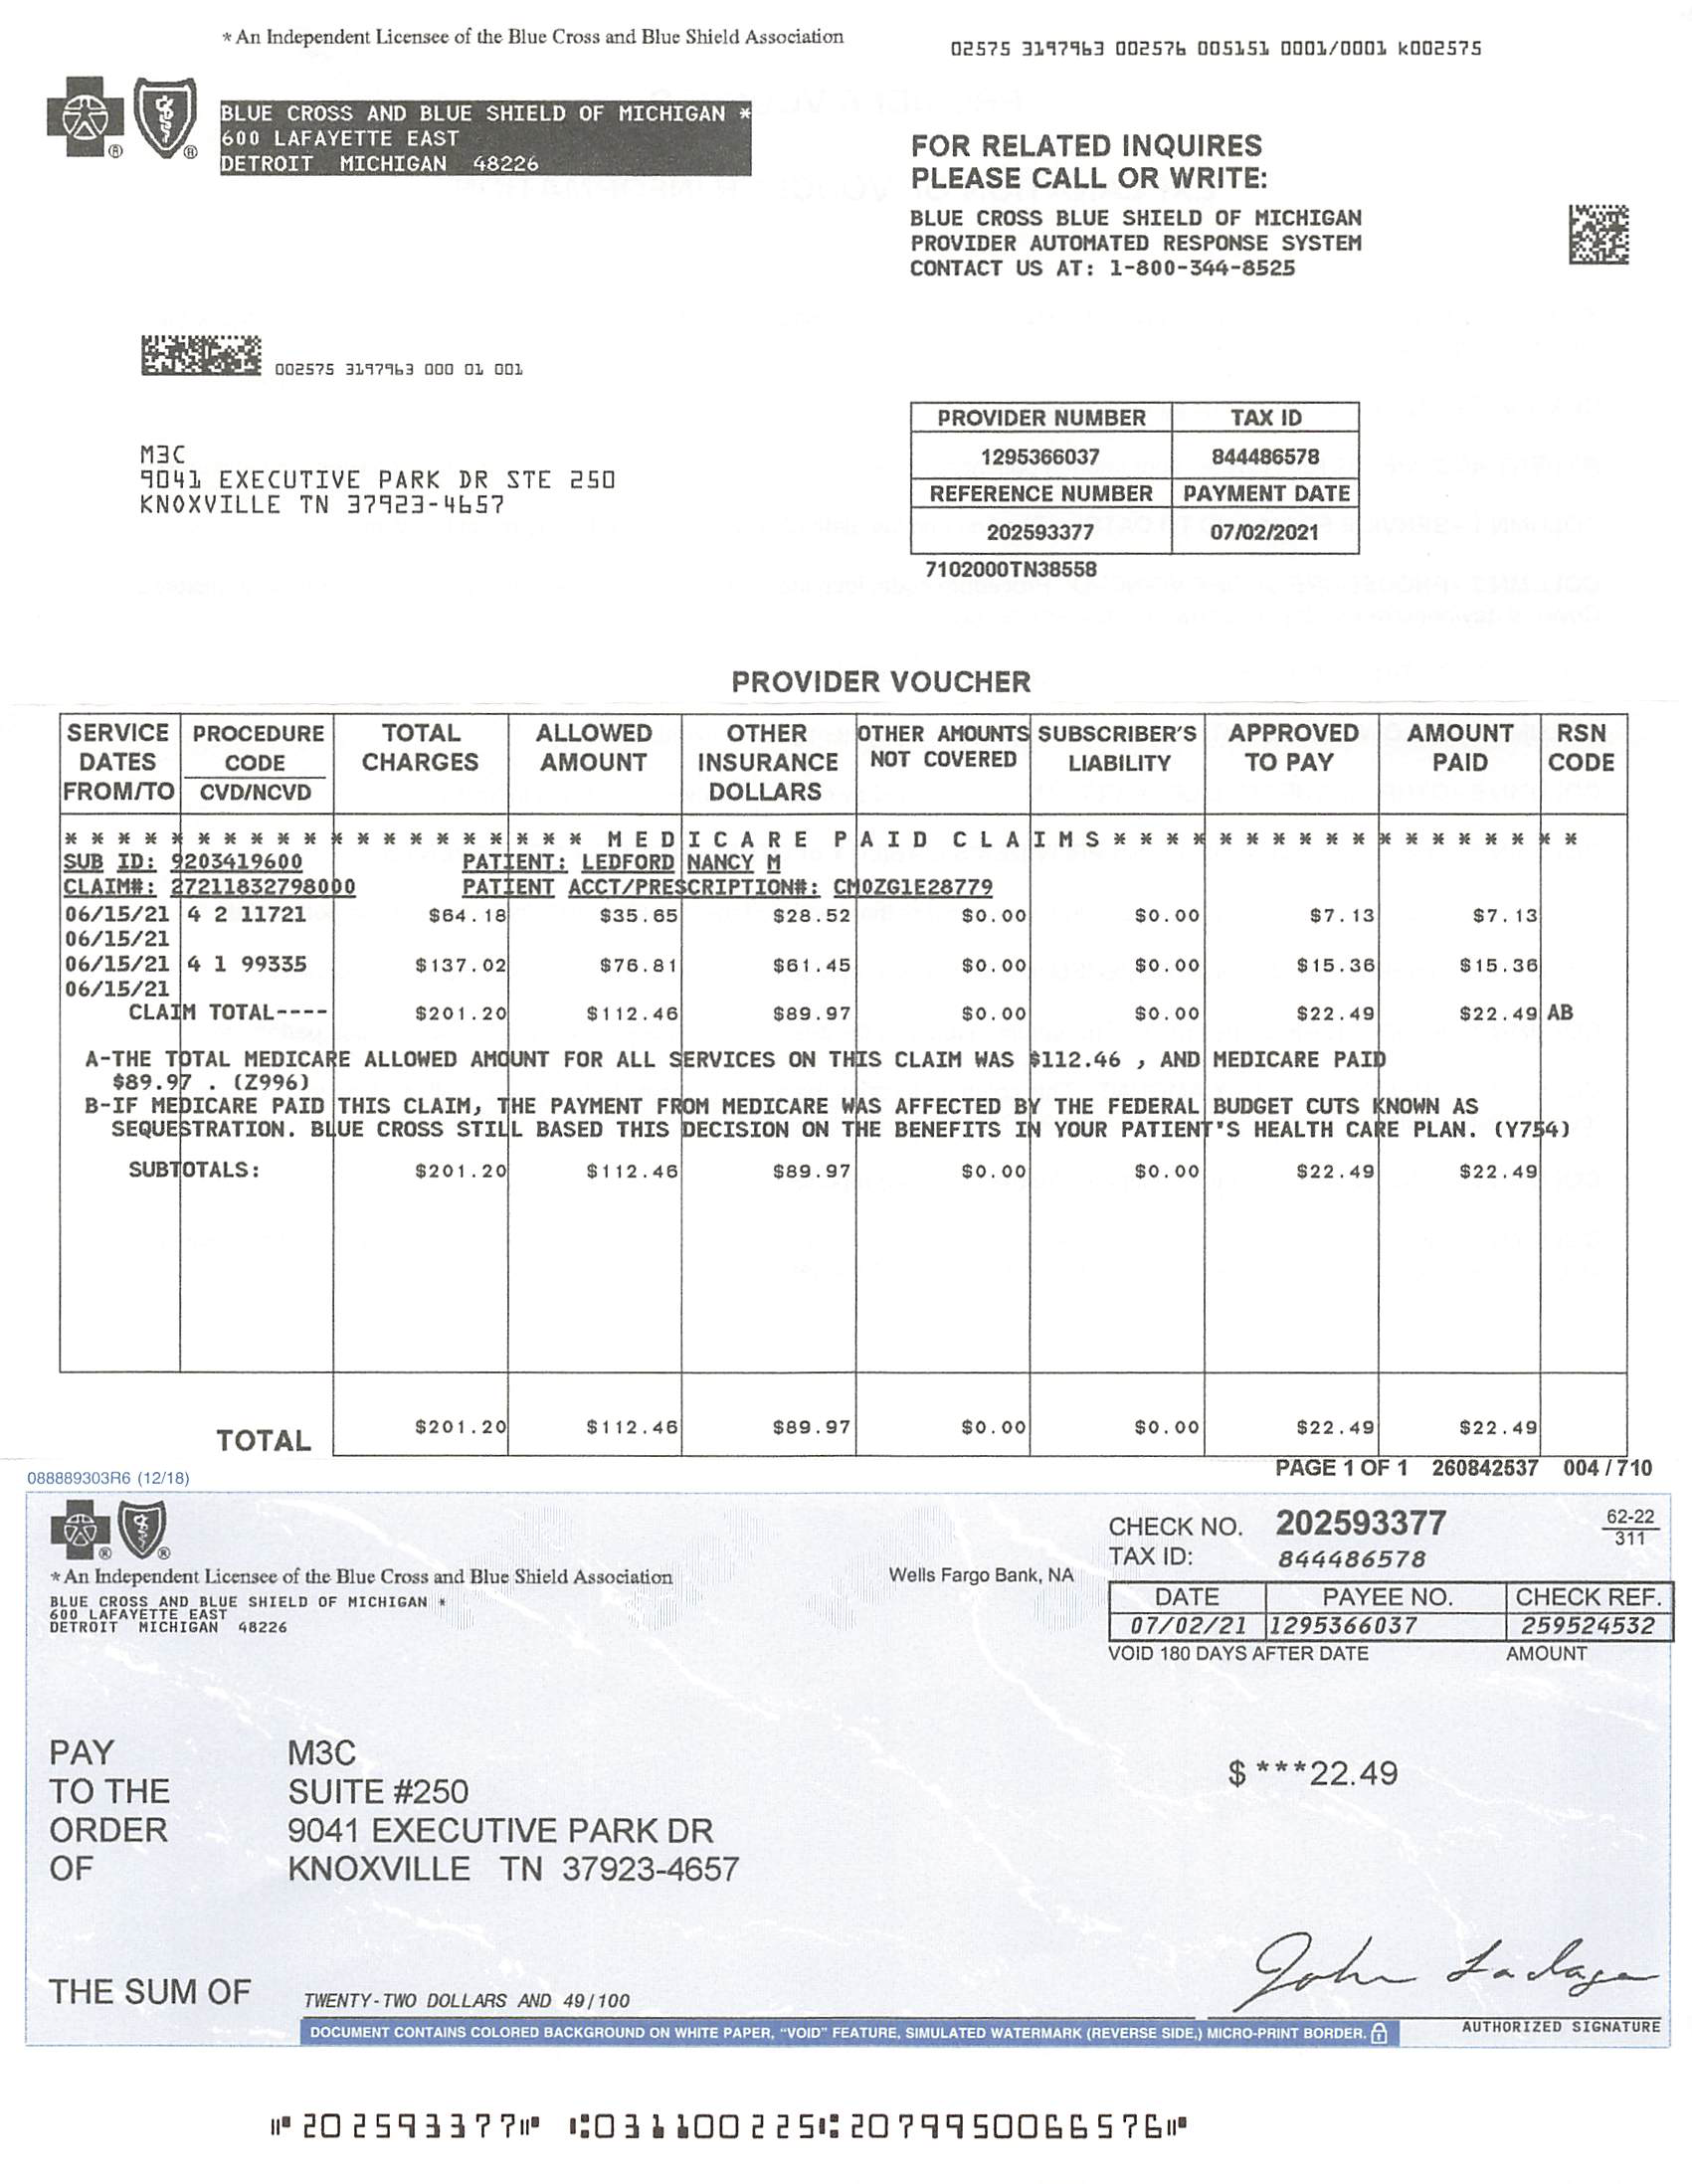table: (51, 709, 1642, 1035), (887, 394, 1396, 564)
